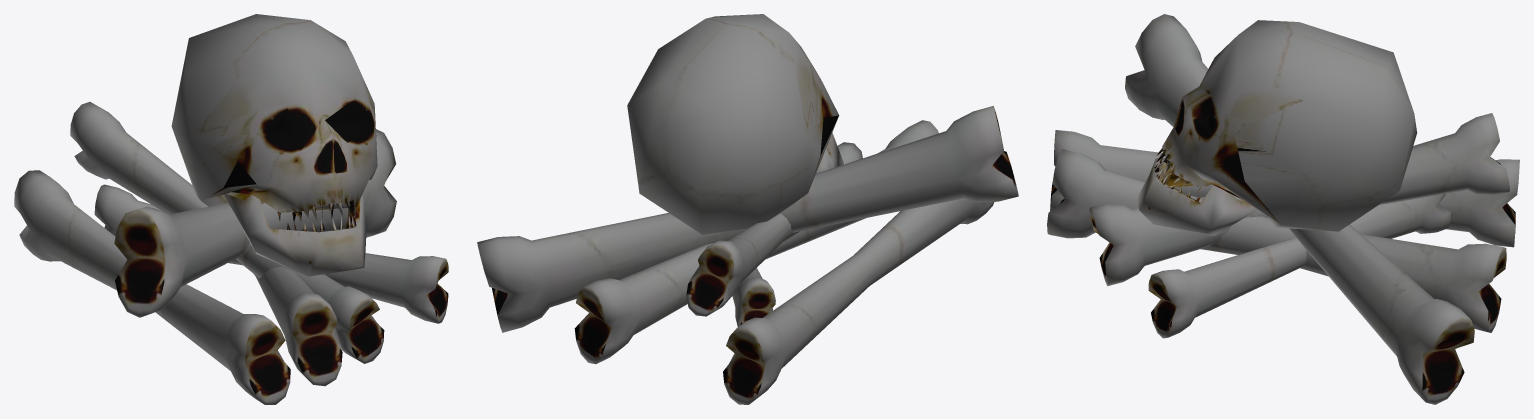
The model's file is Dungeon_CrossBones.glb.
3 renders of one model, left to right at view 1: azimuth 30°, elevation 25°; view 2: azimuth 150°, elevation 25°; view 3: azimuth 270°, elevation 25°, orthographic. The views are drawn at different scales.
Parts seen in each view (by area): view 1: Dungeon_CrossBones; view 2: Dungeon_CrossBones; view 3: Dungeon_CrossBones.
Part boxes in pixels (bbox=[...]): Dungeon_CrossBones: bbox=[14, 14, 448, 404]; Dungeon_CrossBones: bbox=[477, 14, 1018, 404]; Dungeon_CrossBones: bbox=[1047, 14, 1519, 404].
Size of the model in its own units: 0.6275 by 0.4403 by 0.635.
1 material, 1 textured.
